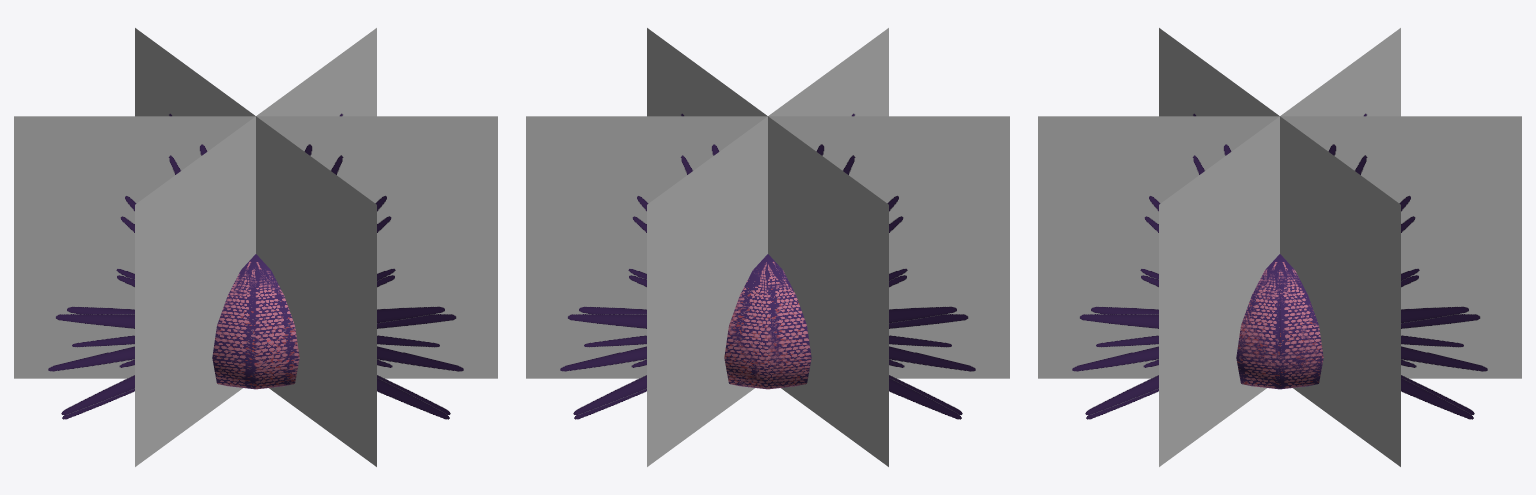
Rendered from Urchin.fbx.
3 renders of one model, left to right at view 1: azimuth 30°, elevation 25°; view 2: azimuth 150°, elevation 25°; view 3: azimuth 270°, elevation 25°, orthographic.
Parts seen in each view (by area): view 1: Urchin; view 2: Urchin; view 3: Urchin.
Part boxes in pixels (box(x1,y1,x2,y2)): Urchin: box(14, 28, 497, 466); Urchin: box(526, 28, 1009, 466); Urchin: box(1038, 28, 1521, 466).
Bounding box in the file's own units: 131 × 78.67 × 131.
